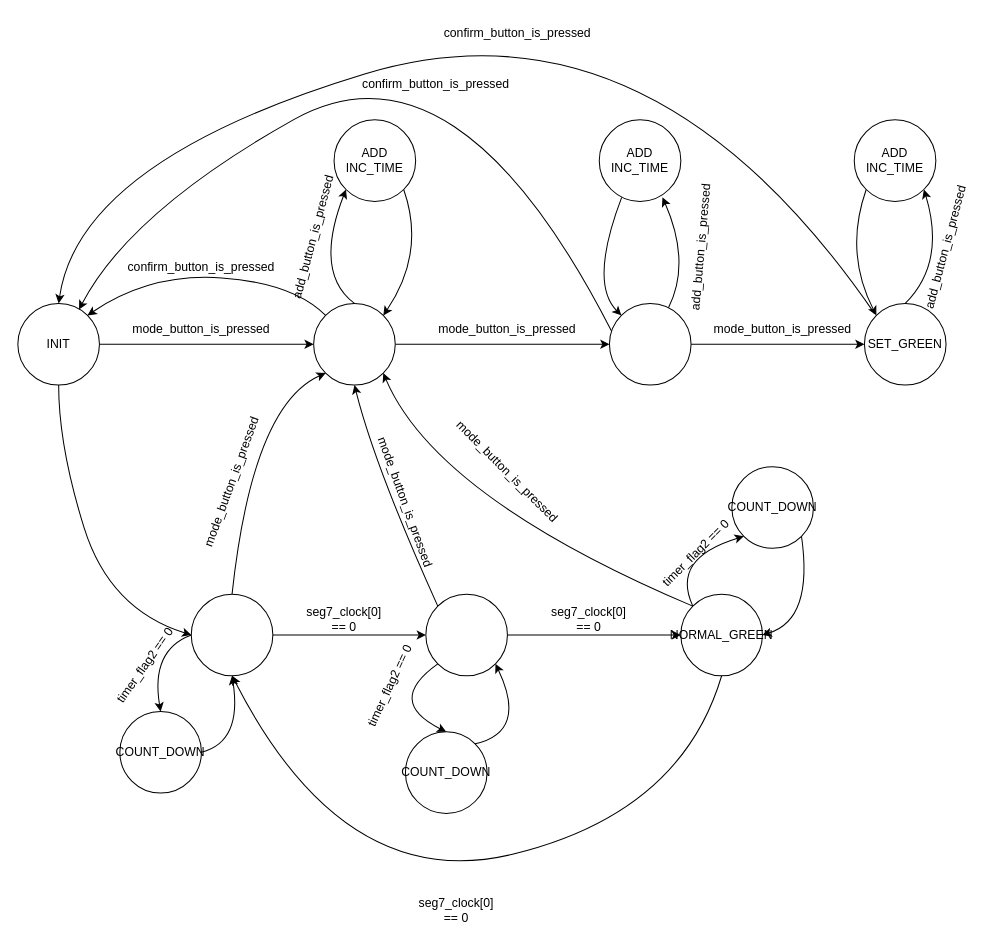
Some shapes in this 987 by 942 pixel diagram are drawn without their labels. Here are the shapes that lost their labels. From the top down, the box of each, then its label:
(313, 302, 395, 385): SET RED
(608, 302, 691, 385): SET_YELLOW
(190, 593, 273, 676): NORMAL_RED
(425, 593, 507, 676): NORMAL_YELLOW
